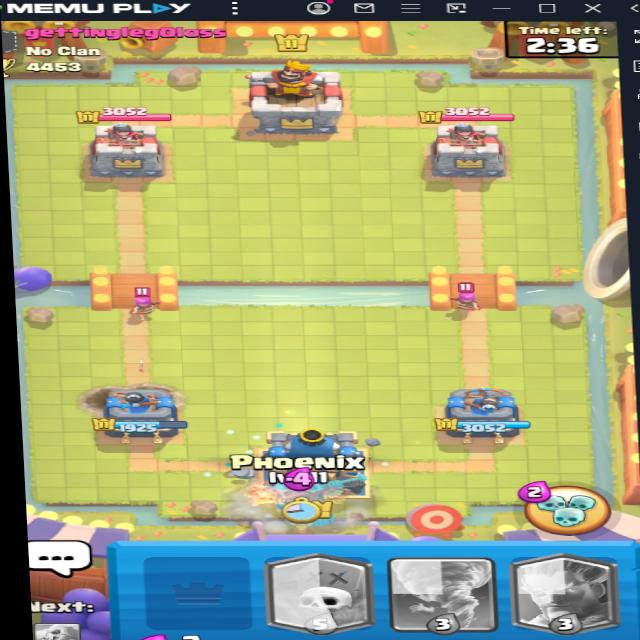Archer: (112, 283, 167, 324), (439, 276, 492, 316)
